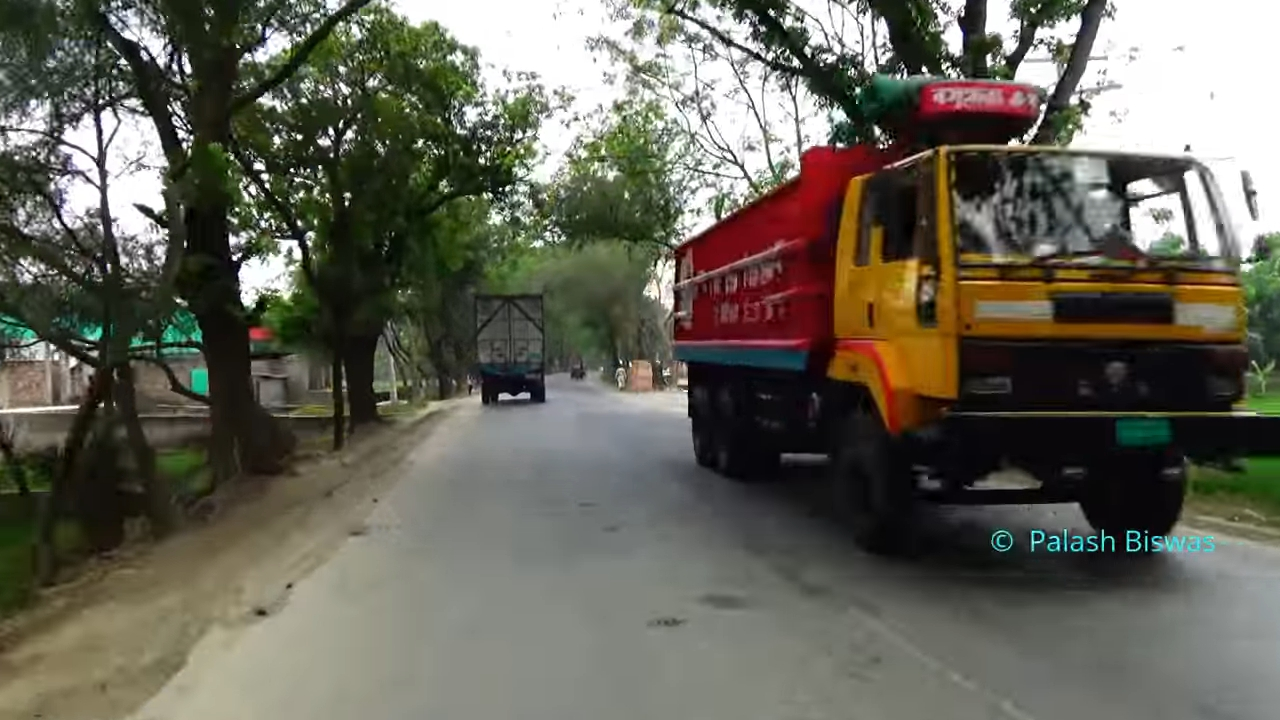truck: (667, 66, 1252, 535), (467, 294, 549, 407)
